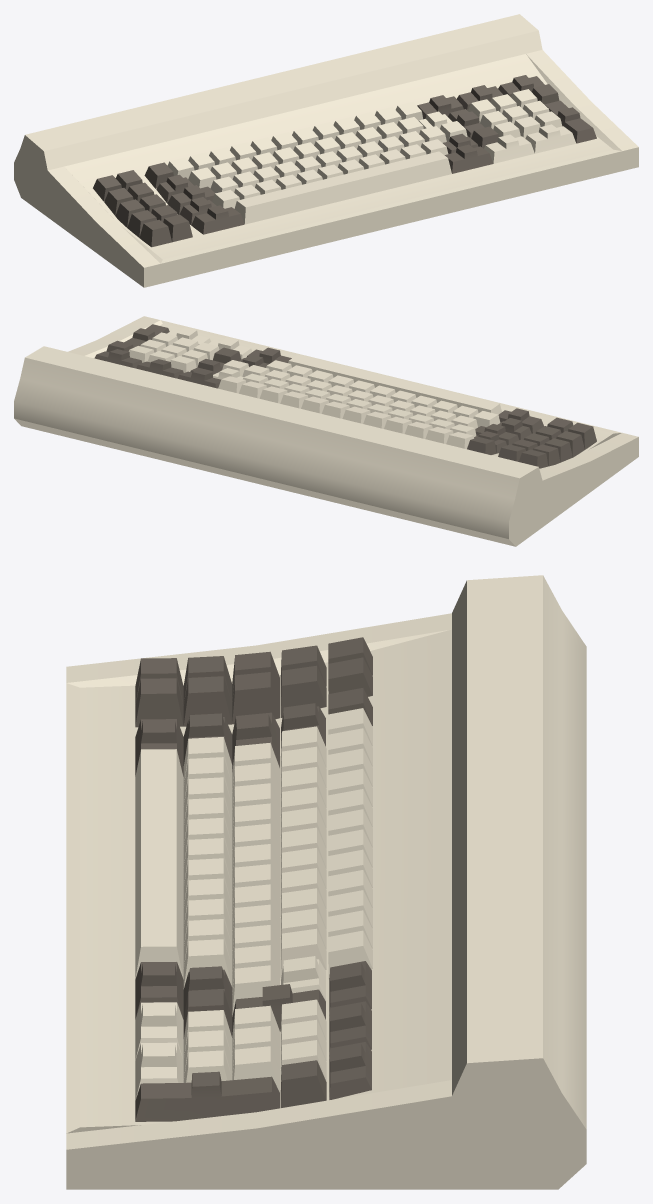
File: SM_Keyboard.fbx
3 renders of one model, top to bottom at view 1: azimuth 30°, elevation 25°; view 2: azimuth 150°, elevation 25°; view 3: azimuth 270°, elevation 25°, orthographic. The views are drawn at different scales.
Visible parts, largest first — view 1: SM_Keyboard; view 2: SM_Keyboard; view 3: SM_Keyboard.
Part boxes in pixels (x1,y1,x2,y2): SM_Keyboard: (14, 14, 638, 287); SM_Keyboard: (14, 316, 638, 546); SM_Keyboard: (66, 575, 586, 1189).
Size of the model in its own units: 0.5011 by 0.0637 by 0.2281.
